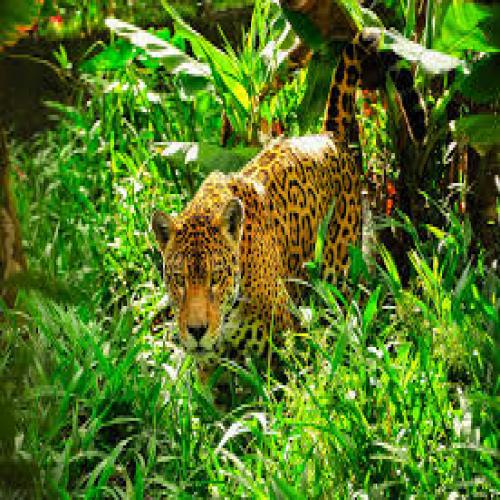jaguar_not-endangered: (147, 22, 366, 378)
